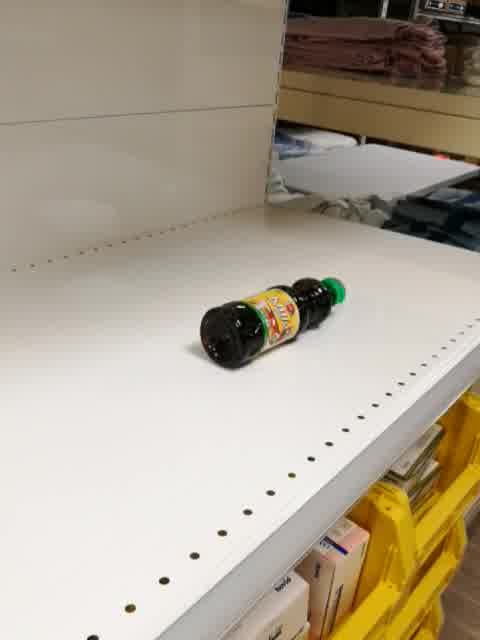cookingoil: (198, 274, 349, 372)
